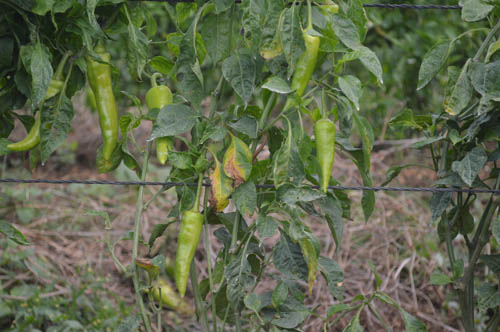ChiliPepper: (5, 81, 63, 162), (81, 51, 117, 159), (176, 208, 204, 288), (145, 85, 172, 164), (290, 31, 319, 98), (313, 119, 338, 192)
